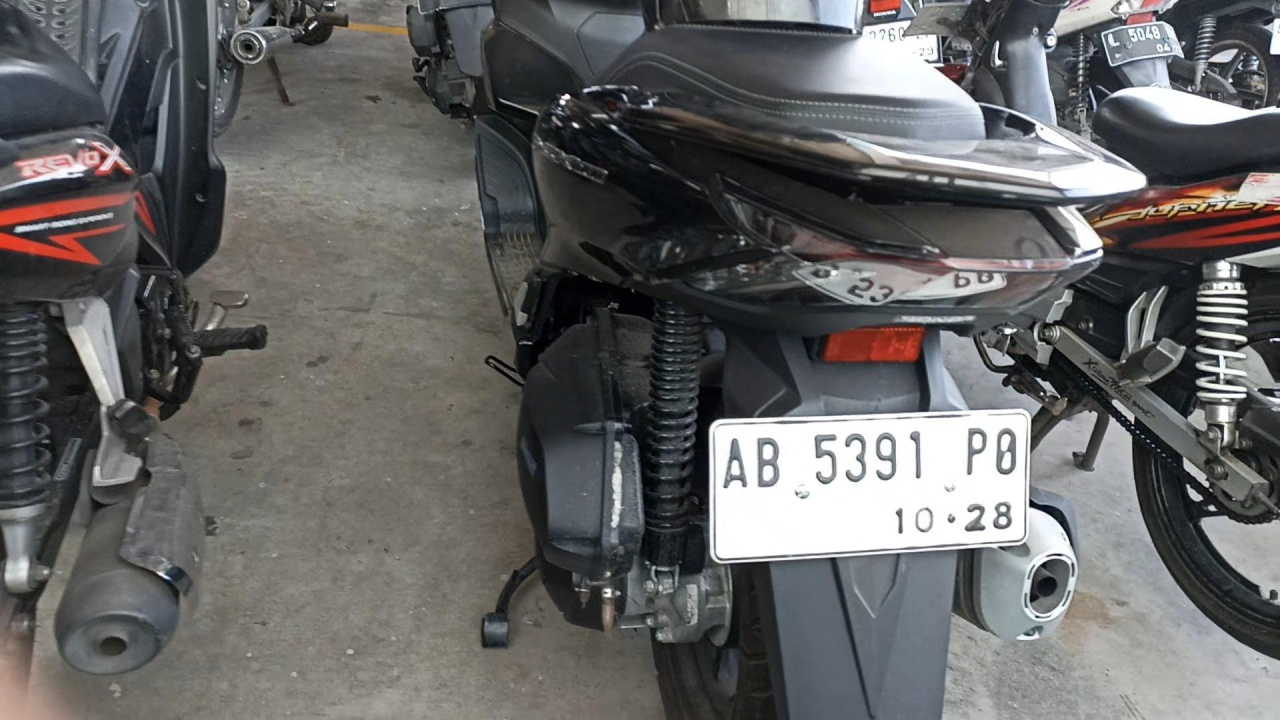plate: (712, 412, 1028, 560)
